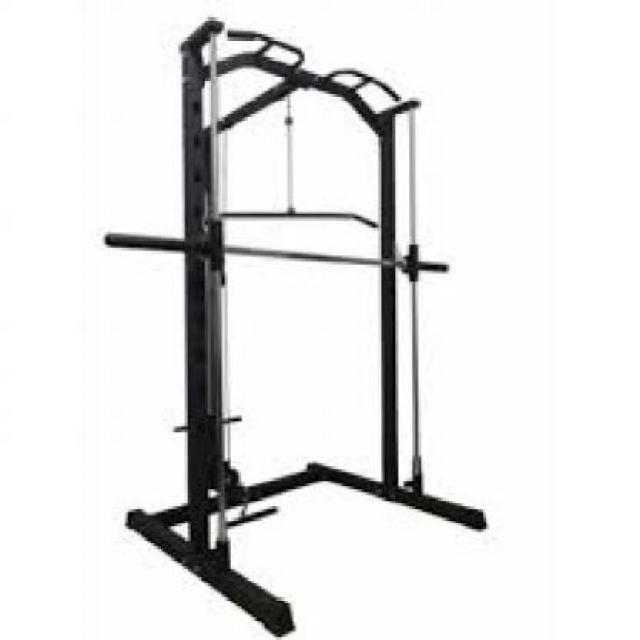smith machine: (102, 15, 489, 634)
